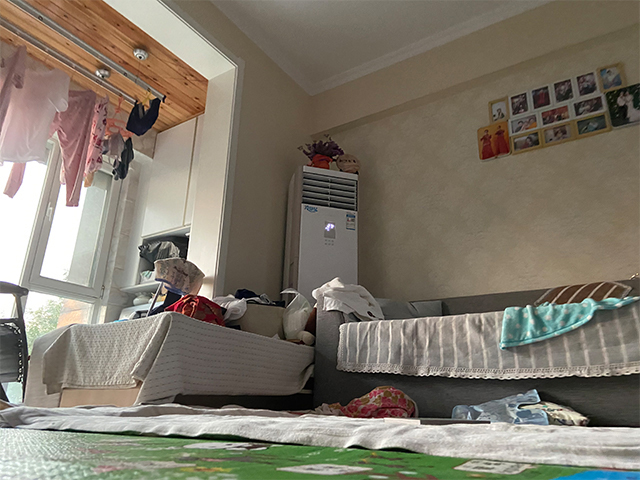sofa: (312, 278, 640, 429), (42, 310, 315, 405)
